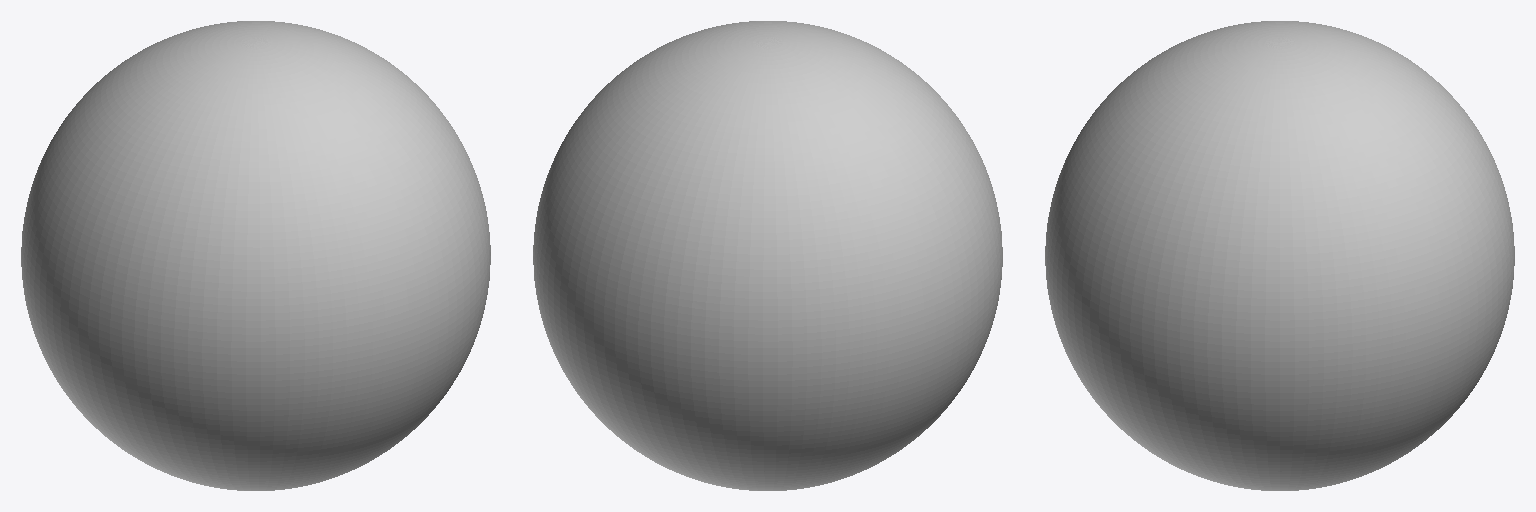
The model's file is sun.obj.
3 renders of one model, left to right at view 1: azimuth 30°, elevation 25°; view 2: azimuth 150°, elevation 25°; view 3: azimuth 270°, elevation 25°, orthographic.
Visible parts, largest first — view 1: Sun_Sphere.001; view 2: Sun_Sphere.001; view 3: Sun_Sphere.001.
Part boxes in pixels (x1,y1,x2,y2): Sun_Sphere.001: (21, 21, 490, 490); Sun_Sphere.001: (533, 21, 1002, 490); Sun_Sphere.001: (1045, 21, 1514, 490).
Size of the model in its own units: 1.99 by 2 by 1.99.